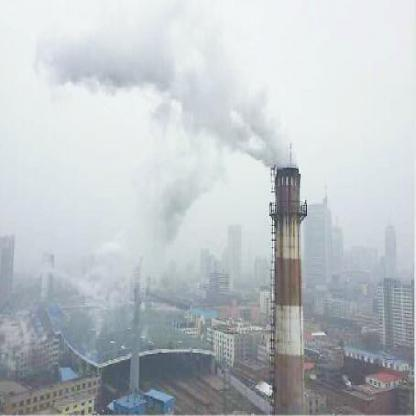smoke: (42, 9, 122, 106), (126, 15, 188, 128), (188, 58, 252, 149), (253, 114, 286, 162)
